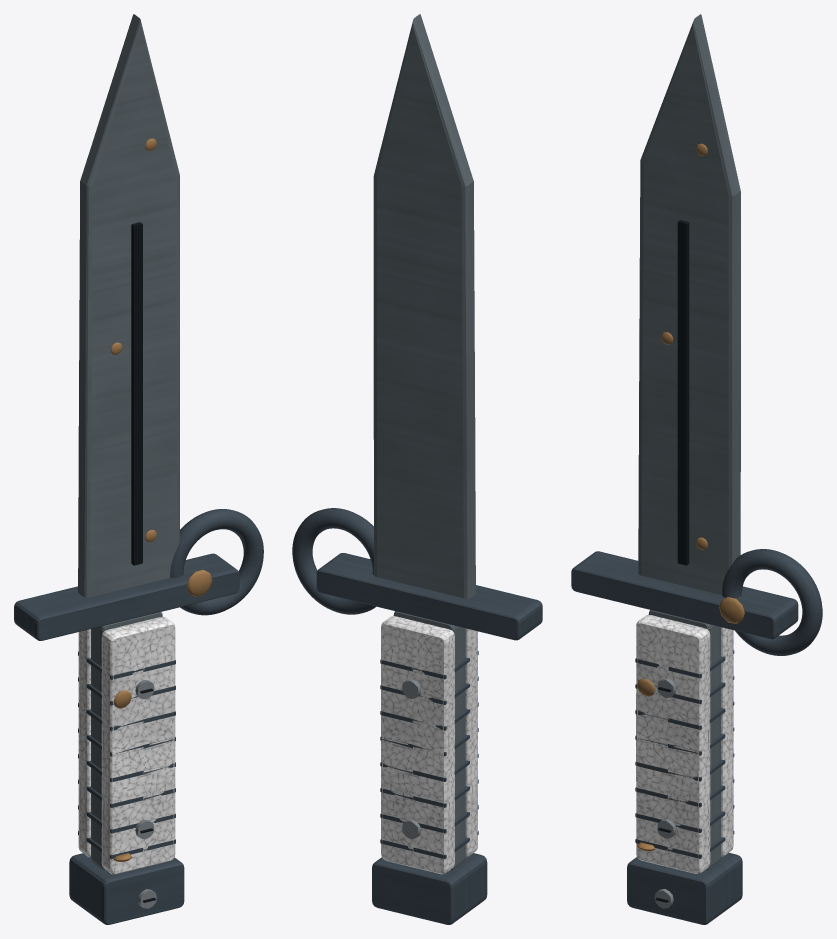
3 views of the same model, side by side, from view 1: azimuth 30°, elevation 25°; view 2: azimuth 150°, elevation 25°; view 3: azimuth 330°, elevation 25° (orthographic).
Parts seen in each view (by area): view 1: brushed steel, machined receiver, vulcanized grip, recess shadow, peened pin, edge hardware; view 2: brushed steel, machined receiver, vulcanized grip, edge hardware; view 3: brushed steel, machined receiver, vulcanized grip, recess shadow, peened pin, edge hardware.
Part boxes in pixels (x1,y1,x2,y2): brushed steel: (78, 14, 179, 869); machined receiver: (14, 509, 263, 924); vulcanized grip: (78, 616, 175, 874); recess shadow: (131, 222, 142, 565); peened pin: (114, 570, 212, 861); edge hardware: (135, 680, 156, 908); brushed steel: (373, 14, 475, 869); machined receiver: (292, 508, 542, 924); vulcanized grip: (381, 616, 477, 874); edge hardware: (402, 679, 420, 838); brushed steel: (638, 14, 740, 869); machined receiver: (571, 549, 822, 924); vulcanized grip: (636, 615, 733, 873); recess shadow: (677, 220, 689, 565); peened pin: (637, 597, 744, 851); edge hardware: (654, 678, 676, 908).
Bounding box in the file's own units: 0.1067 × 0.3796 × 0.033.
Materials: 7 (4 with a texture image).
